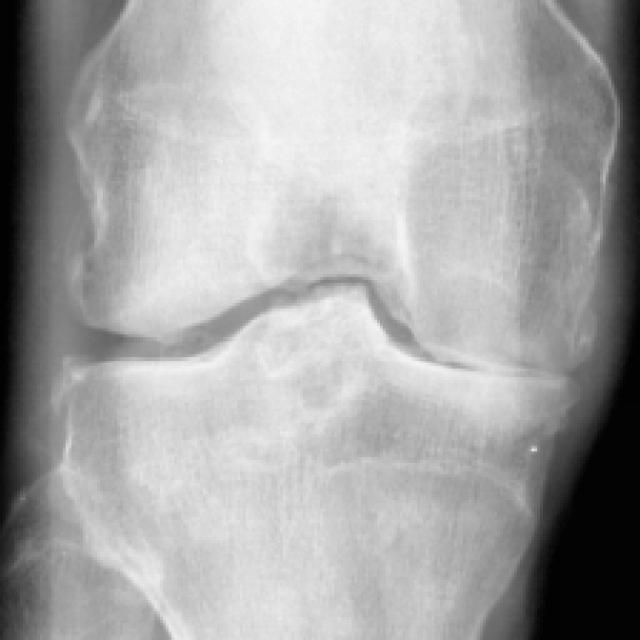femur: (65, 0, 621, 375)
tibia: (57, 286, 585, 640)
